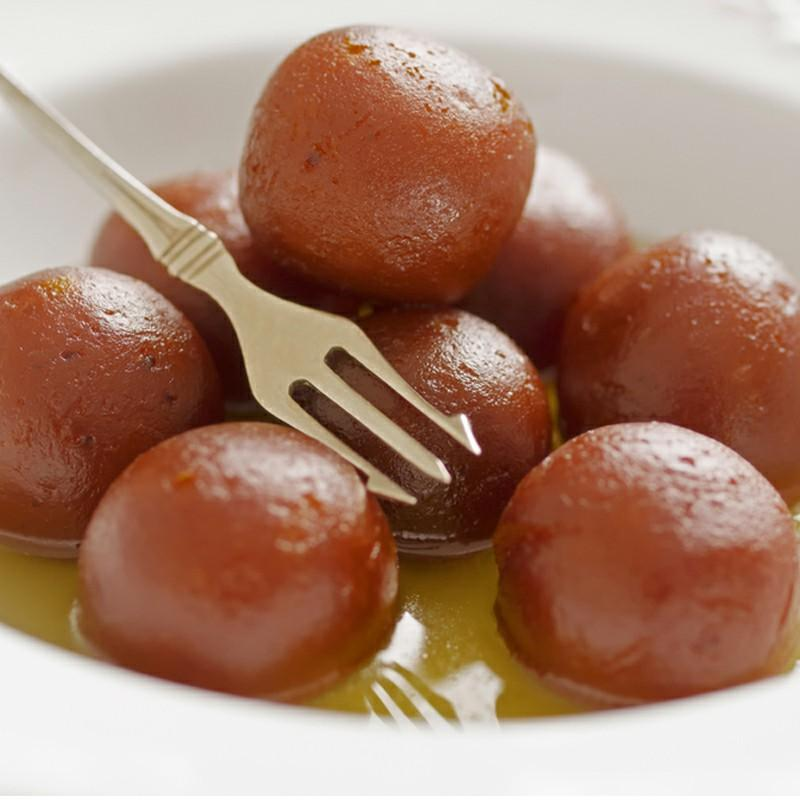GulabJamun: (77, 421, 403, 702), (237, 22, 538, 313), (489, 425, 800, 706), (553, 226, 800, 511), (311, 307, 556, 558), (0, 264, 206, 556), (83, 171, 278, 340), (511, 136, 630, 313)
